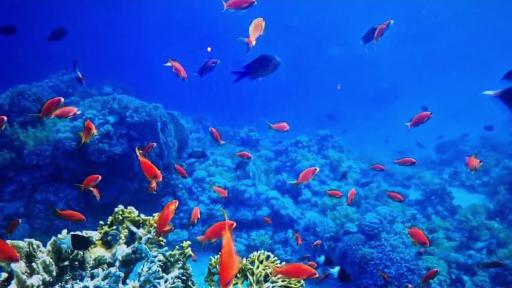Fish: (219, 210, 241, 287), (232, 55, 280, 82), (197, 221, 236, 246), (136, 148, 162, 181), (156, 200, 178, 237), (239, 18, 265, 48), (273, 263, 318, 279), (30, 98, 64, 118), (483, 87, 511, 110), (76, 175, 101, 199), (164, 55, 187, 80), (289, 168, 319, 185), (0, 239, 21, 263), (79, 120, 98, 145), (406, 227, 429, 247), (406, 112, 432, 129), (374, 21, 393, 43), (54, 209, 85, 222), (197, 59, 219, 77), (223, 0, 257, 11), (50, 106, 81, 118), (361, 25, 379, 45), (420, 269, 439, 287), (466, 153, 482, 173), (46, 27, 67, 41), (6, 219, 22, 237), (209, 128, 225, 144), (74, 60, 84, 84), (267, 122, 289, 132), (394, 157, 417, 166), (140, 143, 156, 155), (0, 25, 17, 36), (189, 207, 200, 224), (212, 185, 227, 197), (346, 188, 356, 205), (386, 192, 403, 202), (175, 165, 187, 178), (326, 190, 343, 198), (236, 151, 252, 159), (148, 180, 157, 193), (370, 164, 385, 171), (502, 70, 511, 81), (0, 116, 7, 129), (294, 234, 302, 245), (263, 217, 272, 224)
